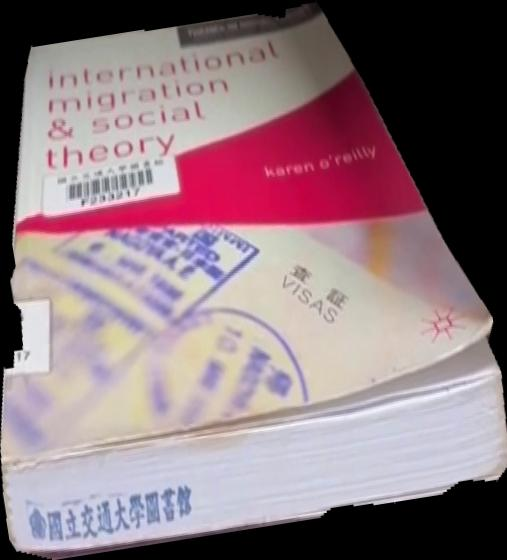flat: (1, 1, 507, 560)
